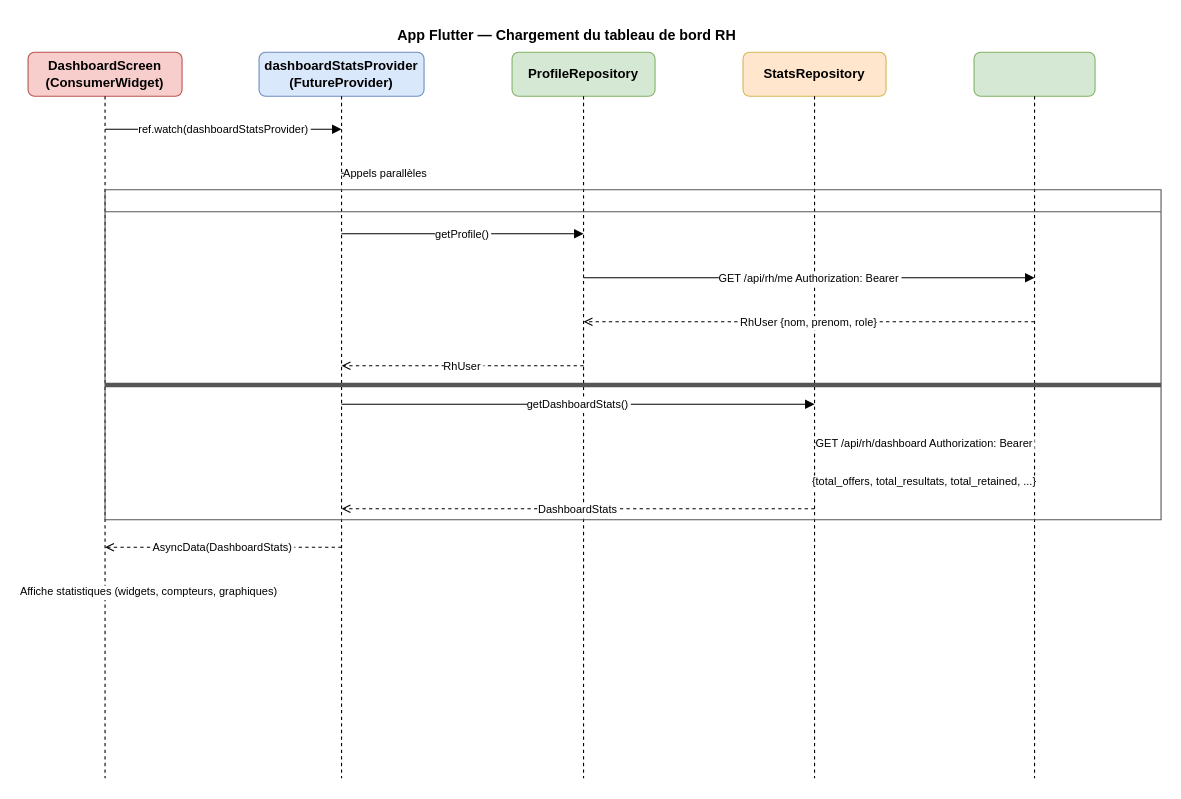
Some shapes in this 1181 by 799 pixel diagram are drawn without their labels. Each missing label, with the centre of its shape:
"FastAPI :8000" belongs at (1034,73).
"par" belongs at (632,354).
